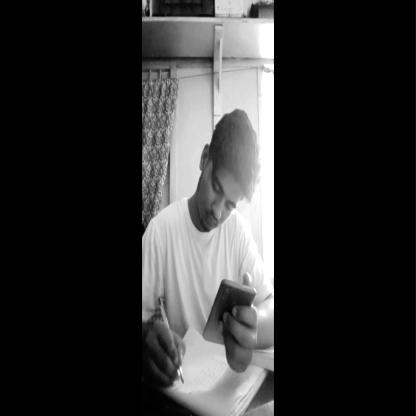Distracted: (194, 107, 248, 232)
